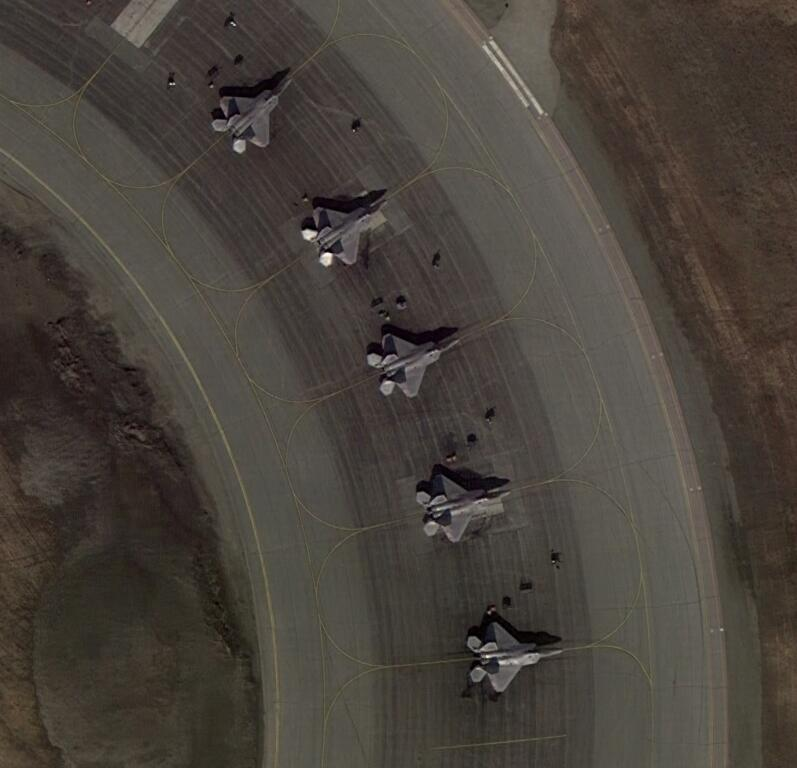A15: (415, 469, 521, 545), (212, 67, 296, 157), (303, 187, 395, 269), (367, 327, 462, 403), (469, 620, 564, 696)
